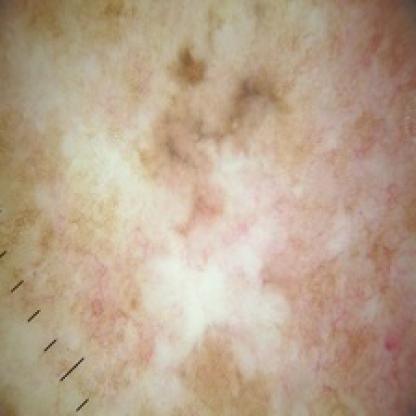malignant: (141, 59, 284, 236)
